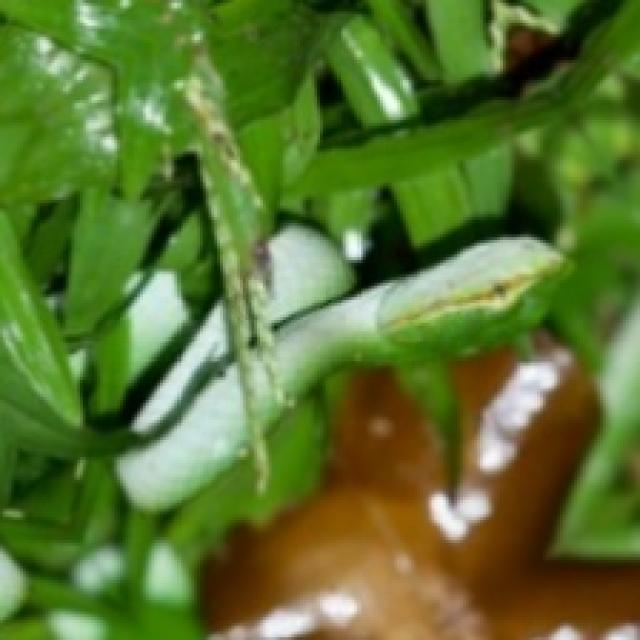north ph temple pitviper: (269, 226, 560, 394), (117, 363, 246, 509)
